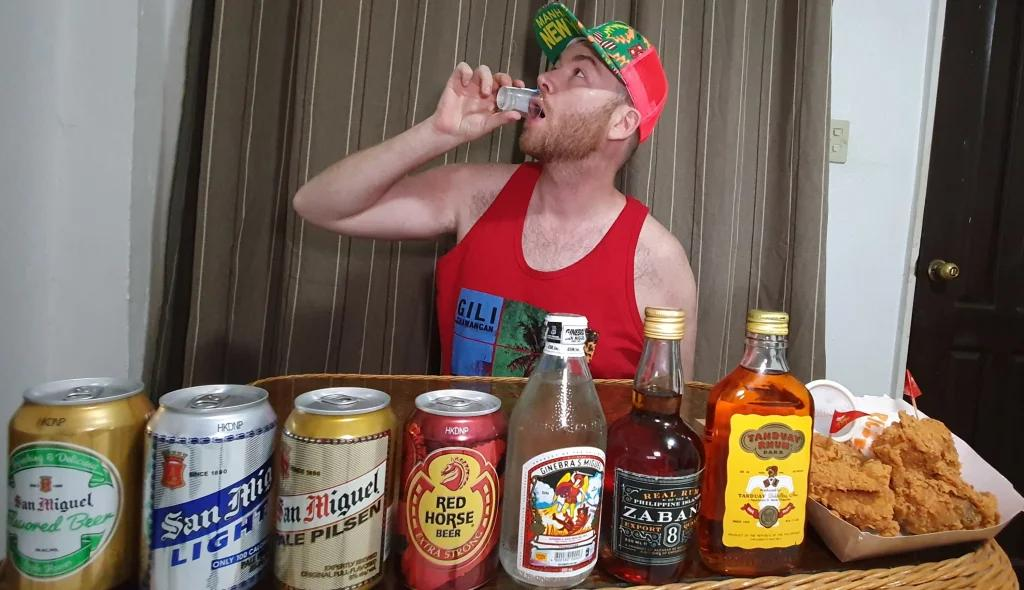can: (0, 378, 153, 589), (142, 384, 276, 589), (274, 387, 396, 589), (399, 381, 506, 589)
